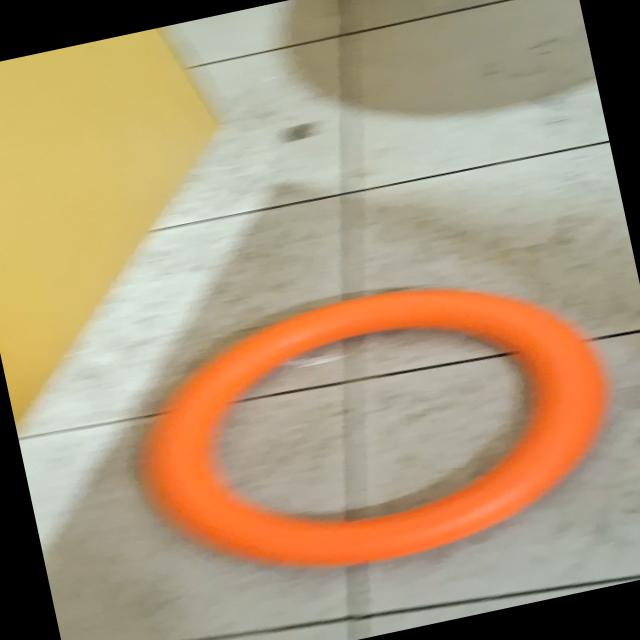note: (112, 248, 634, 607)
